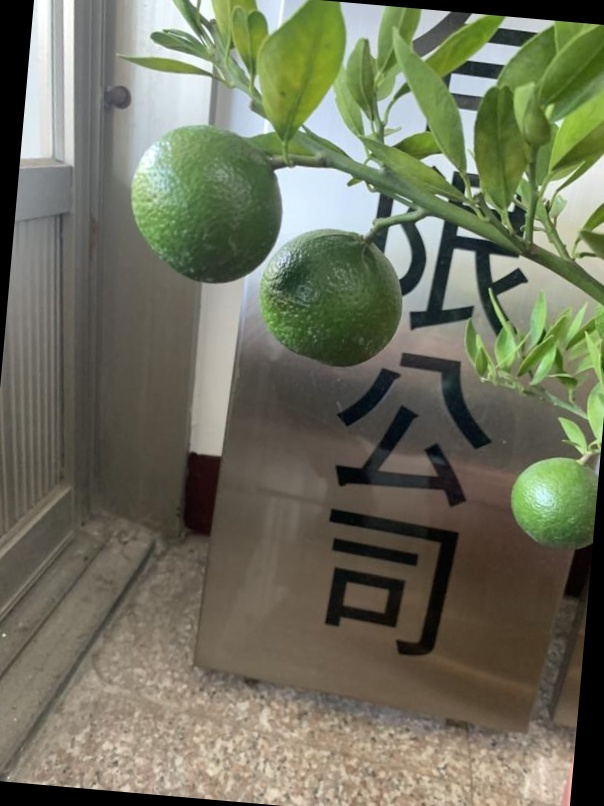Tangerine: (135, 114, 283, 287), (254, 219, 405, 366), (511, 444, 597, 546)
